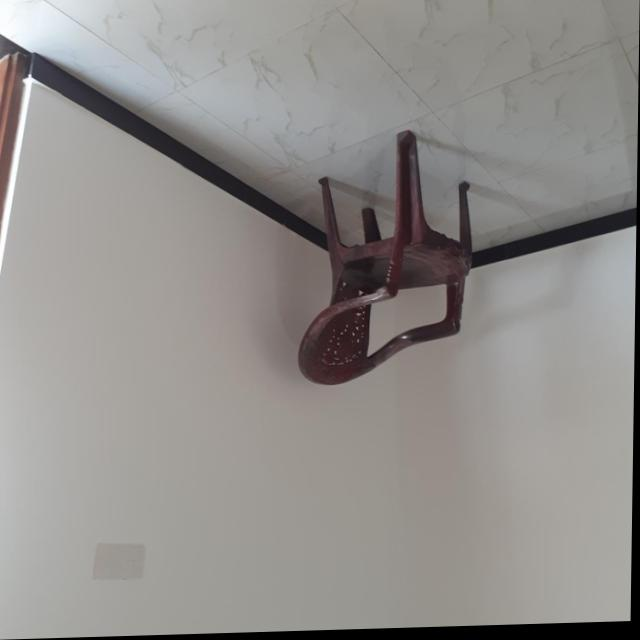Chair: (300, 131, 476, 390)
